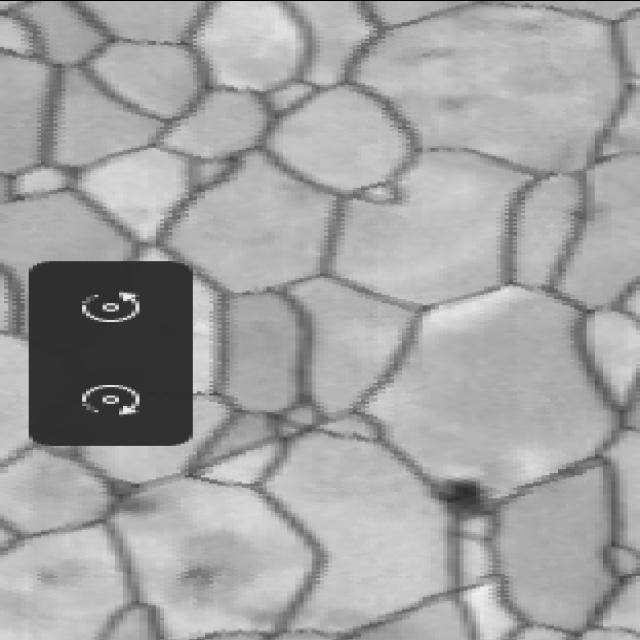good_void: (154, 527, 251, 614), (403, 470, 510, 525), (87, 470, 174, 527), (554, 190, 624, 228)
